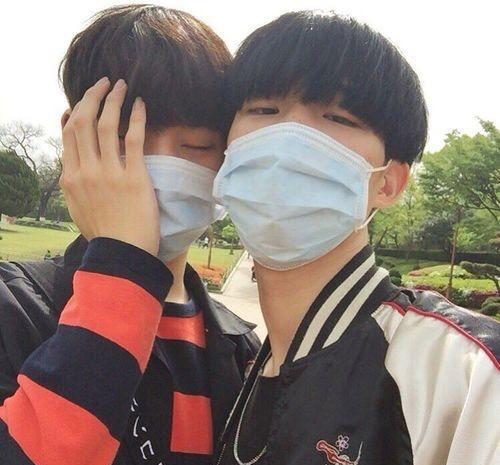OK: (220, 90, 401, 271), (80, 110, 231, 261)
